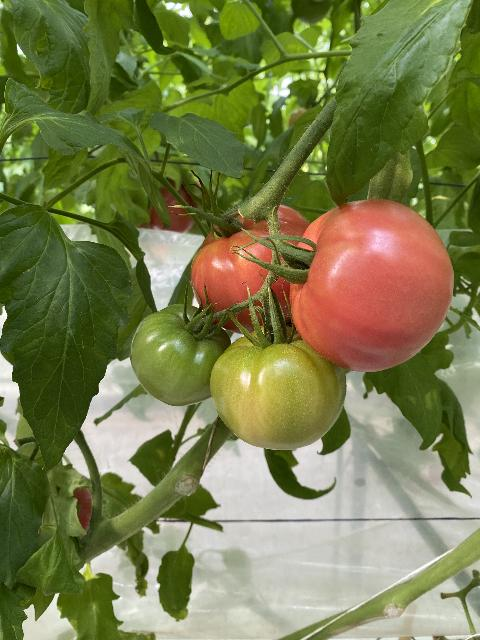b_fully_ripened: (289, 198, 455, 373)
b_green: (209, 322, 348, 451), (131, 303, 232, 407)
b_half_ripened: (192, 203, 312, 334)
